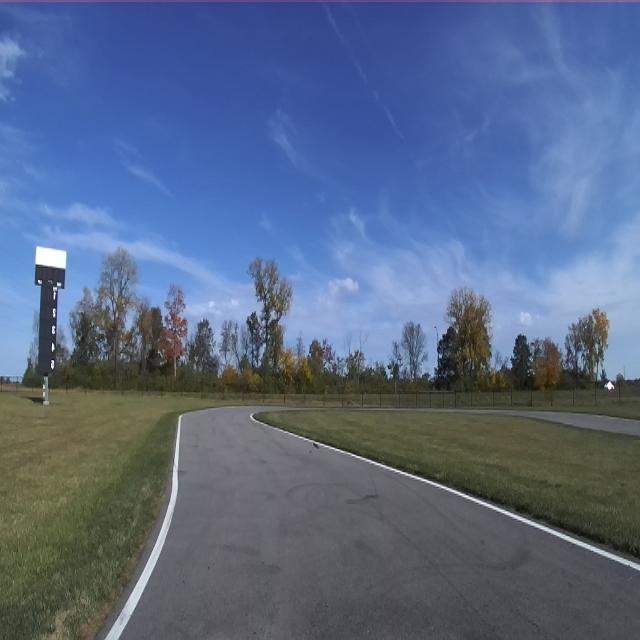white-line: (271, 426, 640, 572), (106, 414, 183, 639)
